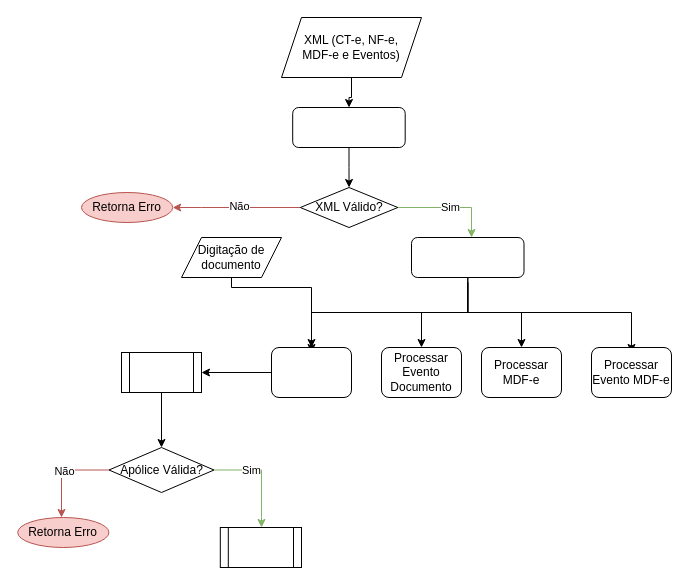
Some shapes in this 689 by 585 pixel diagram are drawn without their labels. The box of each missing label's shape, as (x1, y1, x2, y2) in pixels:
Coletor: (410, 236, 524, 278)
Processar Averbação: (219, 526, 302, 568)
Processar Documento: (270, 346, 352, 398)
Validar Apólice: (120, 352, 202, 392)
Validar XML: (292, 106, 405, 148)
